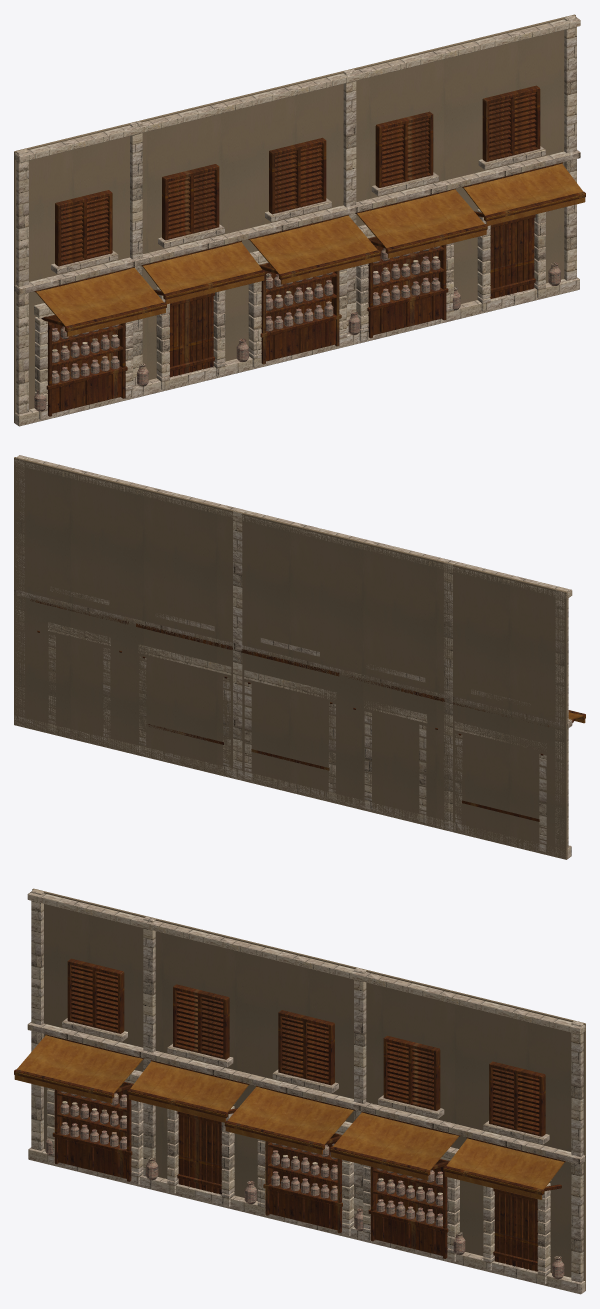
File: spice-west.glb
The picture shows the model from 3 angles, top to bottom: view 1: azimuth 30°, elevation 25°; view 2: azimuth 150°, elevation 25°; view 3: azimuth 330°, elevation 25°; orthographic projection.
Parts seen in each view (by area): view 1: Weathered plaster backing; view 2: Weathered plaster backing; view 3: Weathered plaster backing.
Part boxes in pixels (x1=…): Weathered plaster backing: x1=14, y1=14, x2=585, y2=426; Weathered plaster backing: x1=14, y1=455, x2=585, y2=859; Weathered plaster backing: x1=14, y1=888, x2=585, y2=1294.
Size of the model in its own units: 15.12 by 7 by 1.72.
5 materials, 5 textured.
